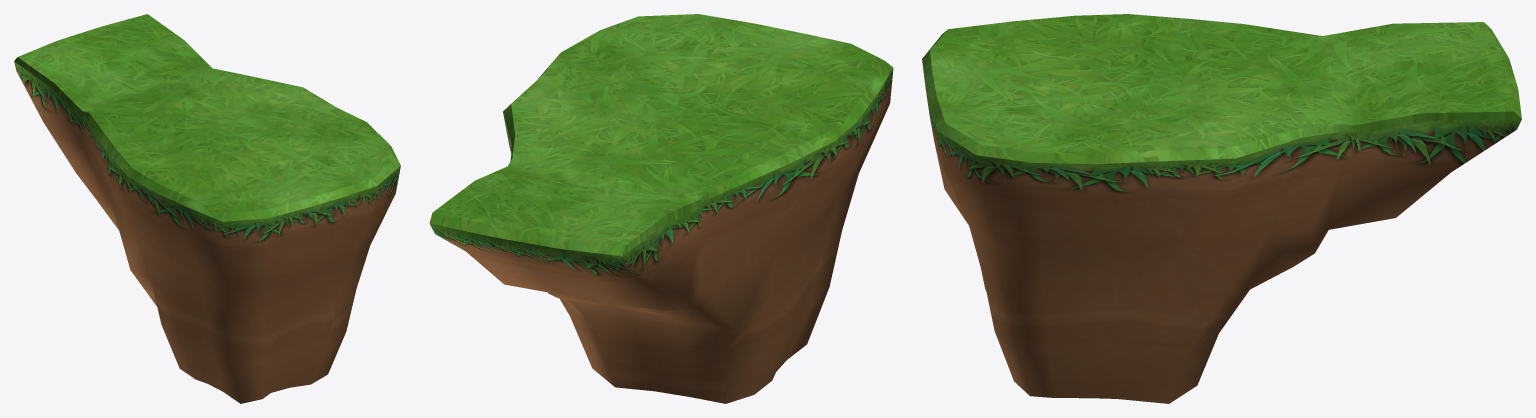
The model's file is lvl1_plat011.FBX.
3 renders of one model, left to right at view 1: azimuth 30°, elevation 25°; view 2: azimuth 150°, elevation 25°; view 3: azimuth 270°, elevation 25°, orthographic. The views are drawn at different scales.
Visible parts, largest first — view 1: lvl1_plat011, lvl1_plat011_grass; view 2: lvl1_plat011_grass, lvl1_plat011; view 3: lvl1_plat011, lvl1_plat011_grass.
Boxes of the visible parts, x1,y1,x2,y2 form: lvl1_plat011: [14, 61, 400, 403]; lvl1_plat011_grass: [14, 14, 400, 221]; lvl1_plat011_grass: [429, 14, 893, 256]; lvl1_plat011: [430, 68, 893, 403]; lvl1_plat011: [925, 84, 1521, 403]; lvl1_plat011_grass: [922, 14, 1521, 164].
Bounding box in the file's own units: 241 × 223 × 420.
